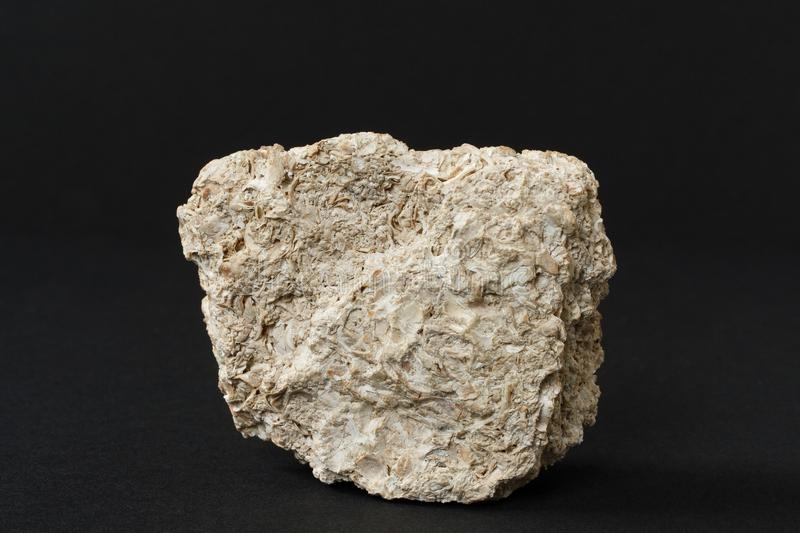obstacle: (178, 133, 615, 502)
